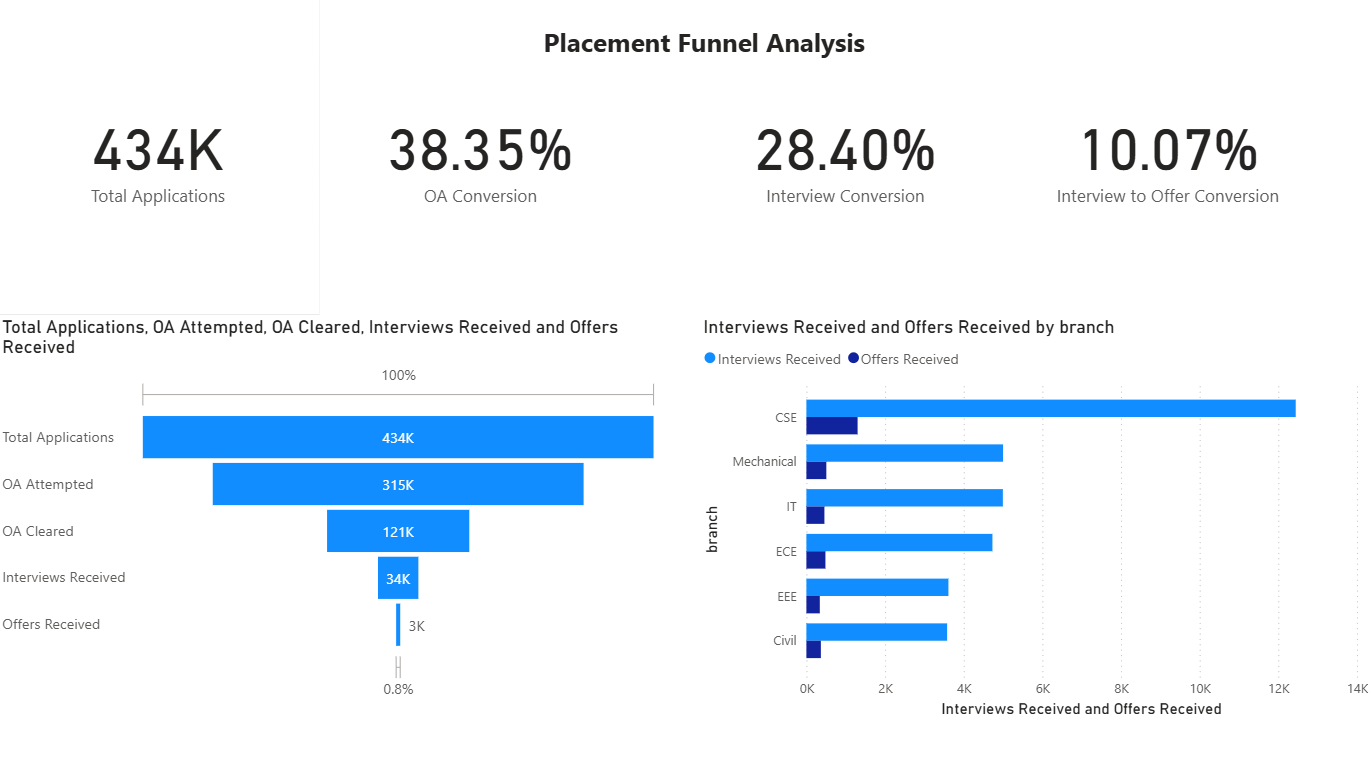

The page's visual inventory and layout, read from the dashboard file:
{"tool":"powerbi","page":{"name":"Placement Funnel Analysis","canvas":[1280,720],"ordinal":1},"visuals":[{"type":"card","fields":{"Values":["applications.Total Applications"]},"box":[0,0,300,300],"z":0},{"type":"card","fields":{"Values":["applications.OA Conversion"]},"box":[300,0,300,300],"z":1000},{"type":"card","fields":{"Values":["applications.Interview Conversion"]},"box":[639.5,0,300,300],"z":2000},{"type":"card","fields":{"Values":["applications.Offer Conversion"]},"box":[939.5,0,300,300],"z":3000},{"type":"funnel","fields":{"Y":["applications.Total Applications","applications.OA Attempted","applications.OA Cleared","applications.Interviews Received","applications.Offers Received"]},"box":[0,300,620.9,362.8],"z":4000},{"type":"clusteredBarChart","fields":{"Category":["students.branch"],"Y":["applications.Interviews Received","applications.Offers Received"]},"box":[652.3,300,627.9,379.1],"z":5000},{"type":"textbox","box":[503.5,24.4,325.6,50],"z":6000}]}

Visuals, with their boxes in screenshot pixels (x1, y1, x2, y2), scaled from the page's 1280x720 canvas onto the 1370x760 screenshot:
card - applications.Total Applications: <region>0, 0, 321, 317</region>
card - applications.OA Conversion: <region>321, 0, 642, 317</region>
card - applications.Interview Conversion: <region>684, 0, 1006, 317</region>
card - applications.Offer Conversion: <region>1006, 0, 1327, 317</region>
funnel - applications.Total Applications x applications.OA Attempted: <region>0, 317, 665, 700</region>
clusteredBarChart - students.branch x applications.Interviews Received: <region>698, 317, 1369, 717</region>
textbox: <region>539, 26, 887, 79</region>
